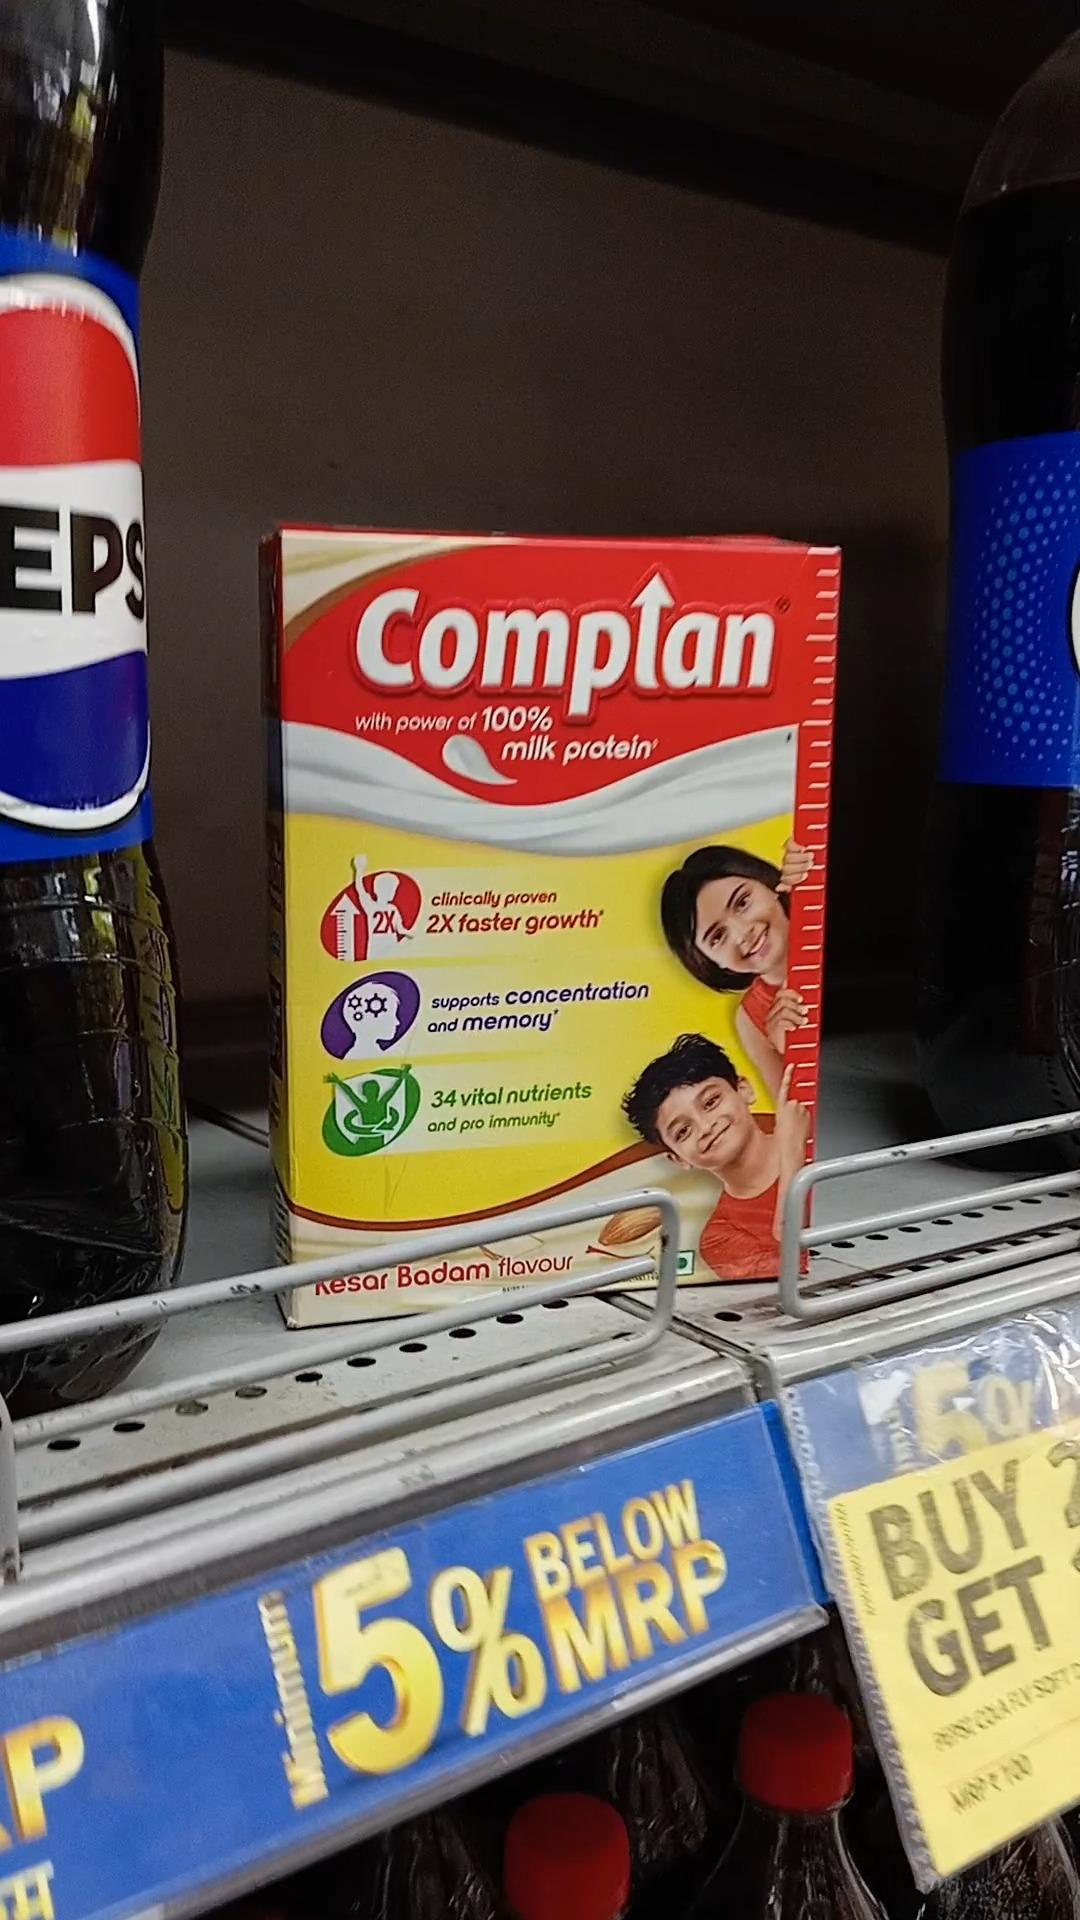COMPLAN_CHOCOLATE_200_GMS_JAR: (282, 529, 804, 1292)
